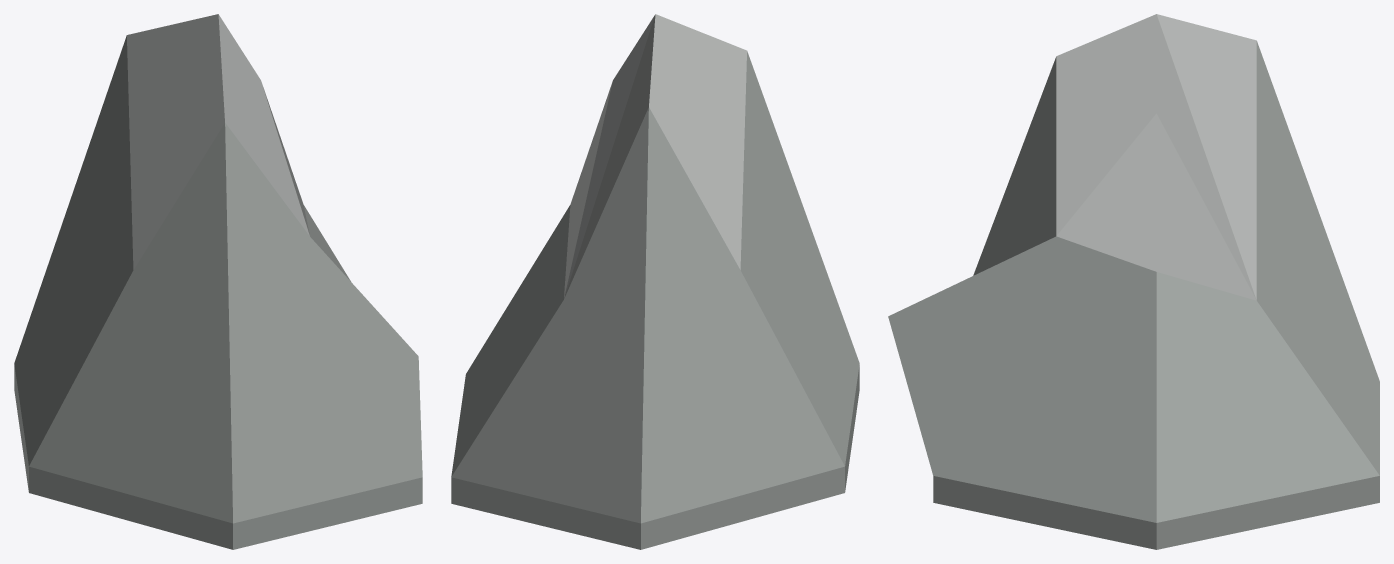
Rendered from Mountain2.fbx.
The picture shows the model from 3 angles, left to right: view 1: azimuth 30°, elevation 25°; view 2: azimuth 150°, elevation 25°; view 3: azimuth 270°, elevation 25°; orthographic projection. The views are drawn at different scales.
Visible parts, largest first — view 1: Mountain2; view 2: Mountain2; view 3: Mountain2.
Boxes of the visible parts, left/top/right/bottom form: Mountain2: left=14, top=14, right=422, bottom=549; Mountain2: left=451, top=14, right=859, bottom=549; Mountain2: left=888, top=14, right=1379, bottom=549.
Bounding box in the file's own units: 1500 × 1636 × 1651.
